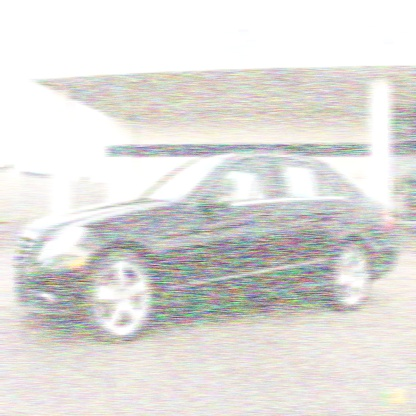Vehicle: (8, 147, 399, 343)
